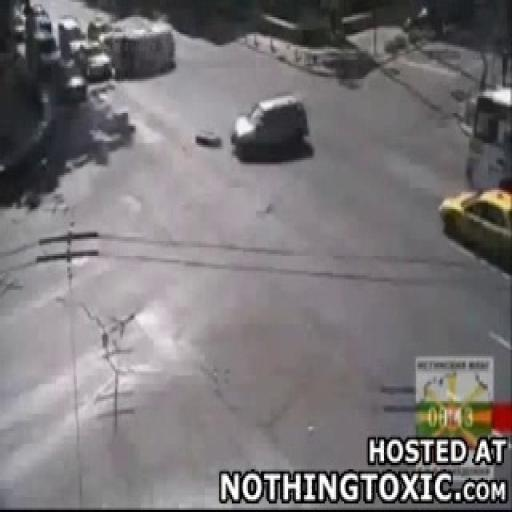Car: (440, 188, 511, 273), (231, 96, 313, 160), (110, 27, 177, 82), (74, 40, 112, 82), (35, 34, 63, 80), (57, 17, 84, 59), (60, 71, 88, 104), (30, 4, 53, 40), (11, 2, 26, 40)
Major Accident: (109, 24, 314, 162)
